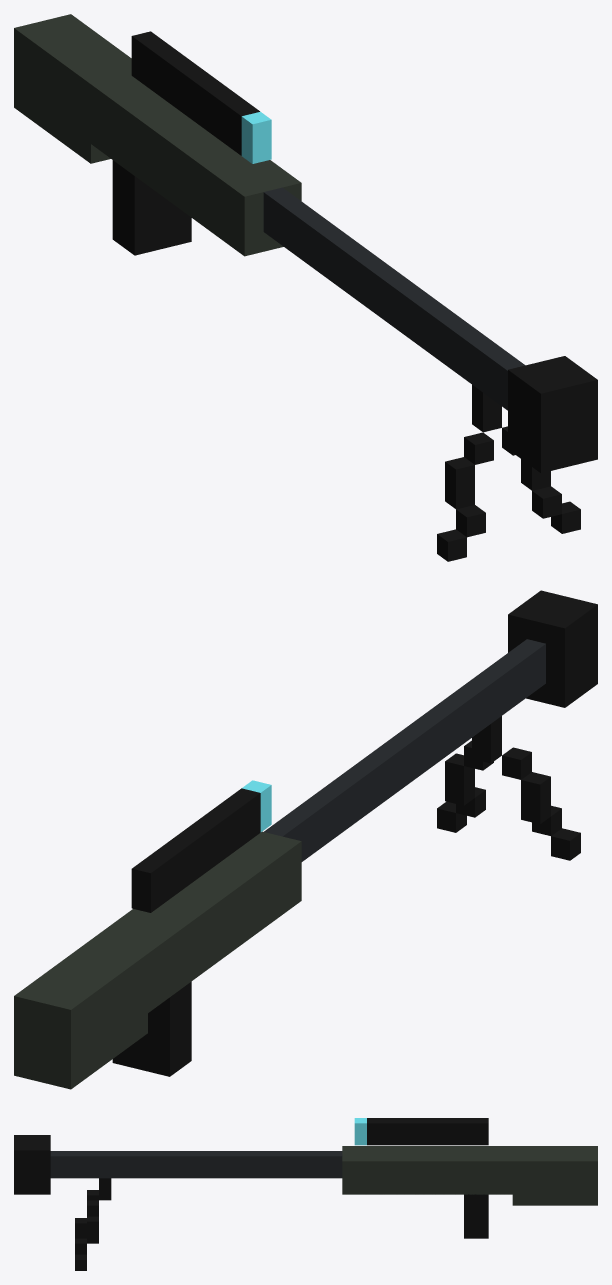
The model's file is vox_amr.glb.
3 views of the same model, one above another, from view 1: azimuth 30°, elevation 25°; view 2: azimuth 150°, elevation 25°; view 3: azimuth 270°, elevation 25° (orthographic). The views are drawn at different scales.
Visible parts, largest first — view 1: vox_amr; view 2: vox_amr; view 3: vox_amr.
Boxes of the visible parts, x1,y1,x2,y2 form: vox_amr: (14,14,597,561); vox_amr: (14,590,597,1089); vox_amr: (14,1118,597,1270).
Size of the model in its own units: 0.14 by 0.24 by 0.96.
